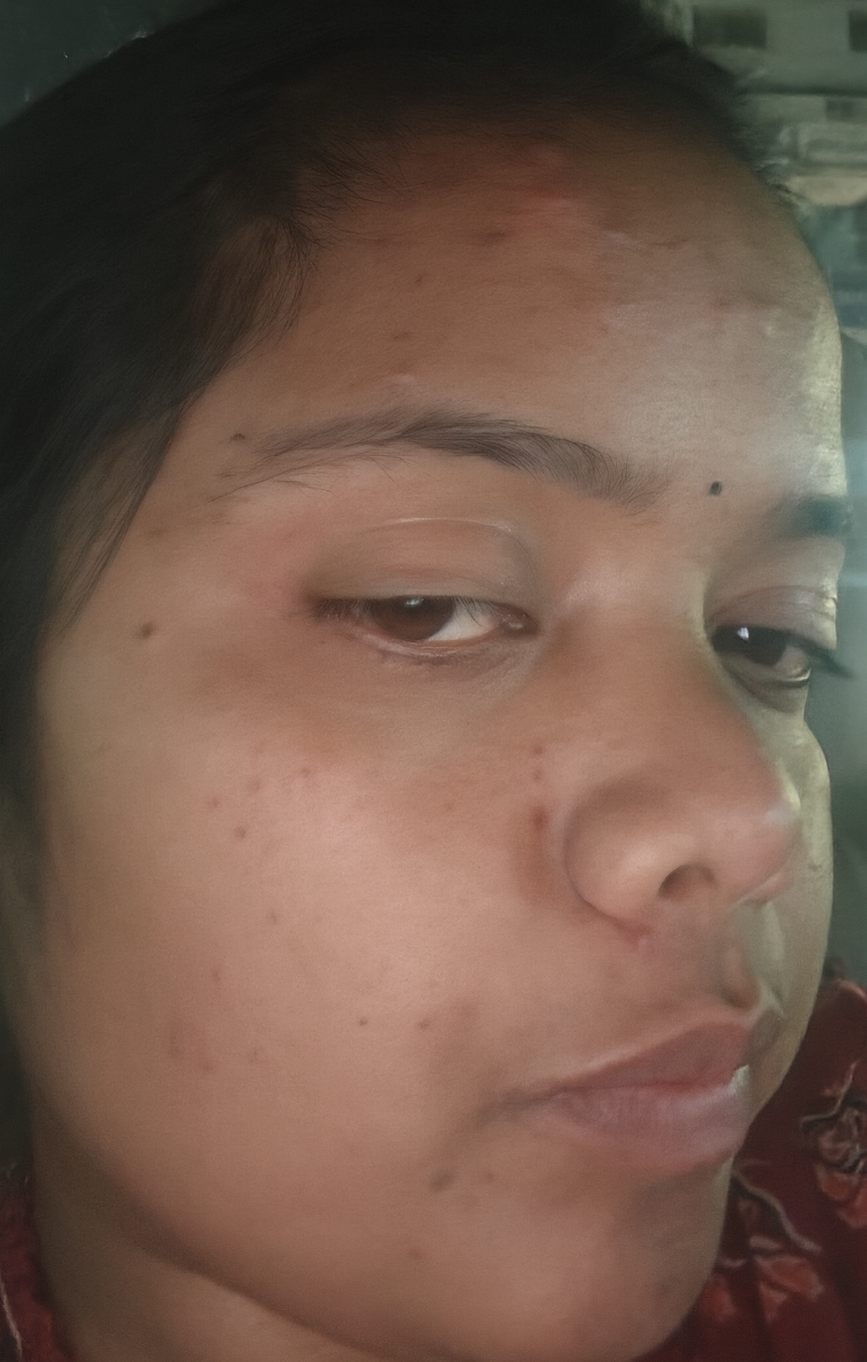closed_comedone: (740, 290, 808, 371)
papule: (588, 202, 648, 288), (237, 1029, 293, 1081)
